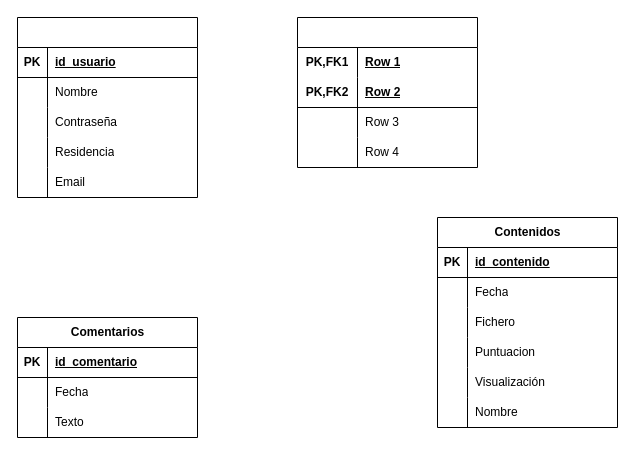
The diagram is 635 pixels wide and 455 high, and some of its shapes have lost their labels. The box of each missing label's shape, as (x1, y1, x2, y2) in pixels:
Table: (296, 16, 478, 168)
Usuarios: (16, 16, 198, 198)
